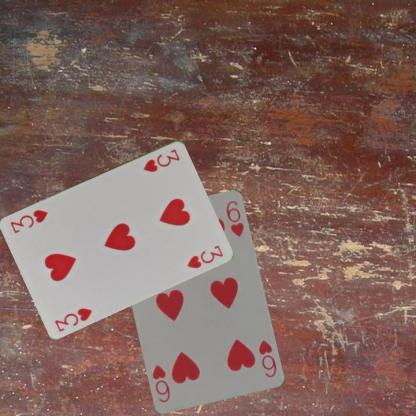3h: (52, 304, 94, 333), (140, 146, 182, 173)
6h: (256, 337, 278, 378)
